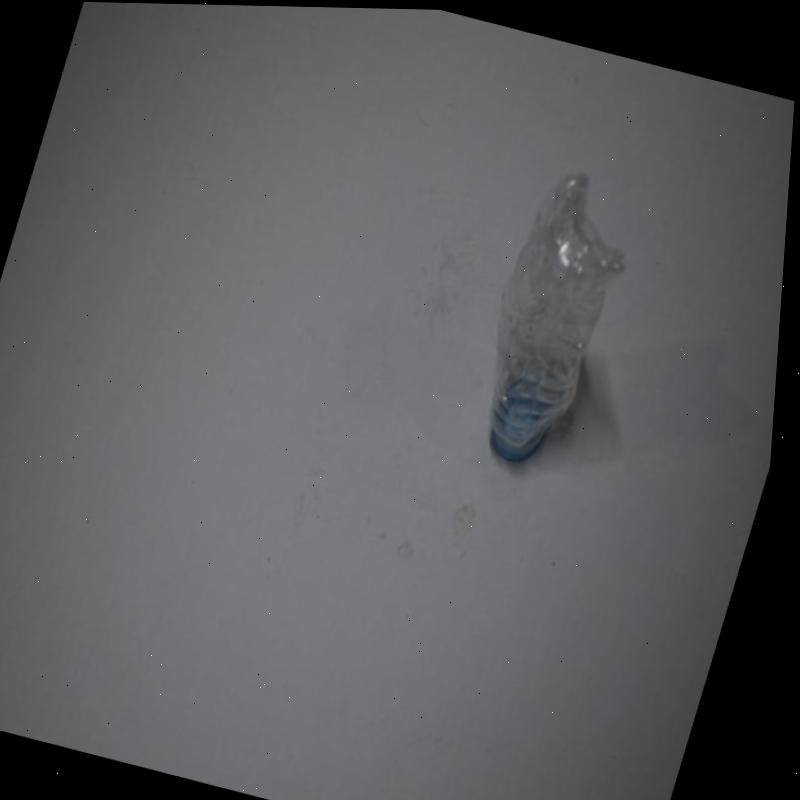botella: (453, 158, 653, 489)
